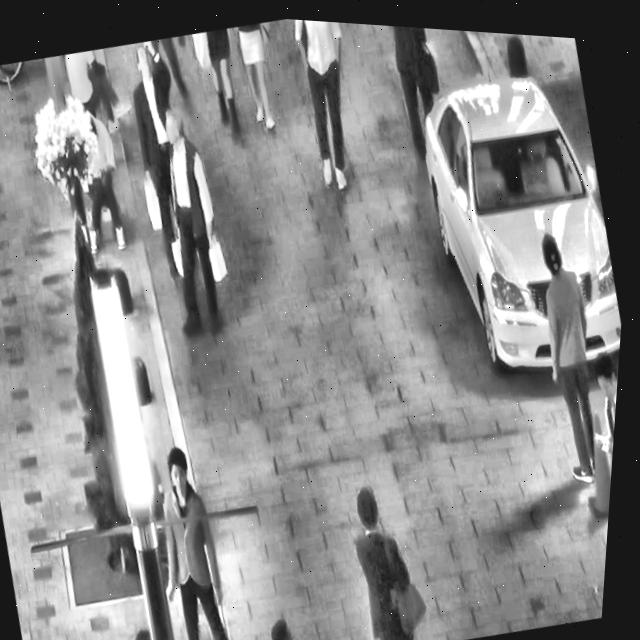light_vehicle: (390, 29, 640, 396)
